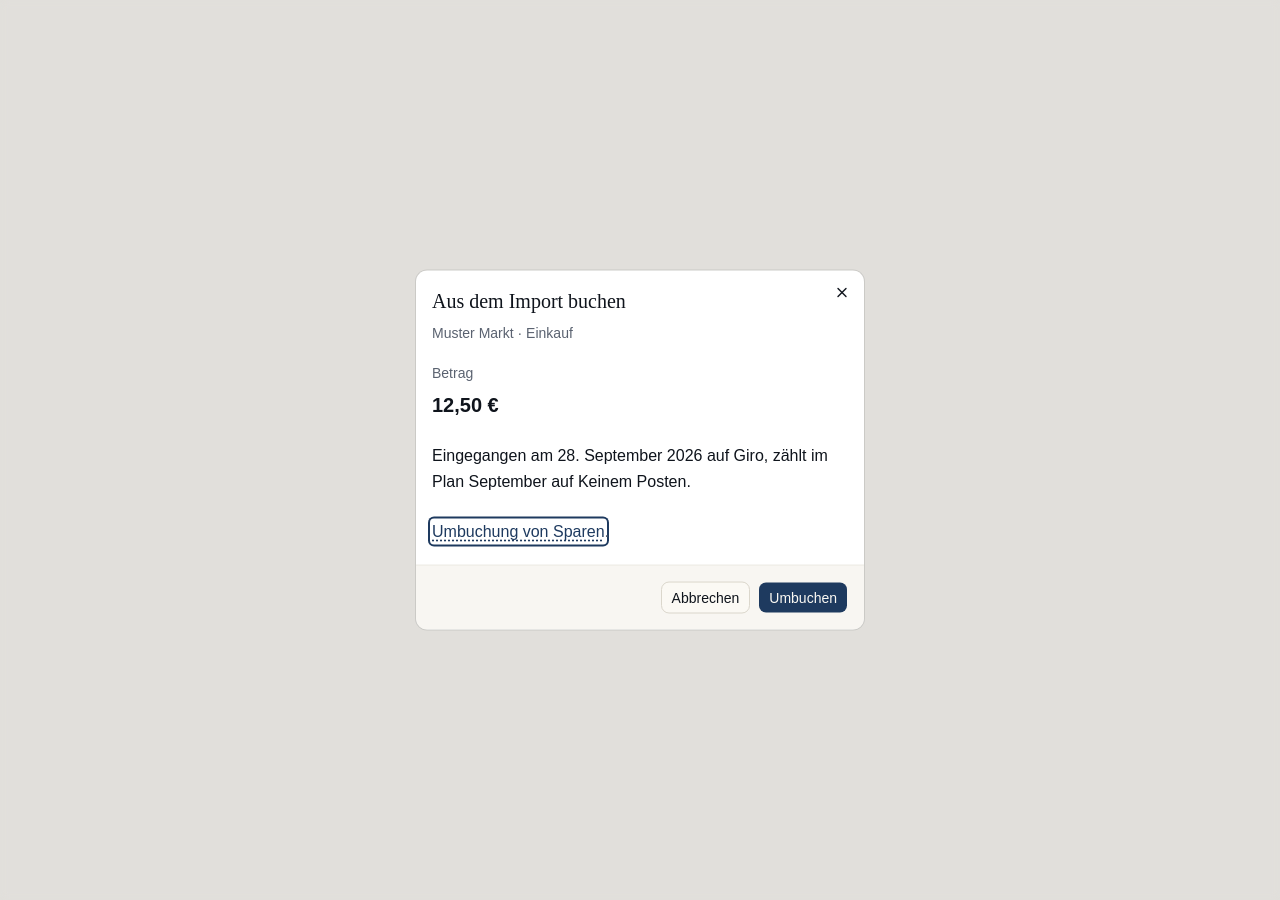
BookingDialog import › an incoming line says where the money came from
The width and height of the screenshot is (1280, 900).
Click the button "Umbuchung von Sparen". click: [518, 532]
box: [430, 518, 607, 544]
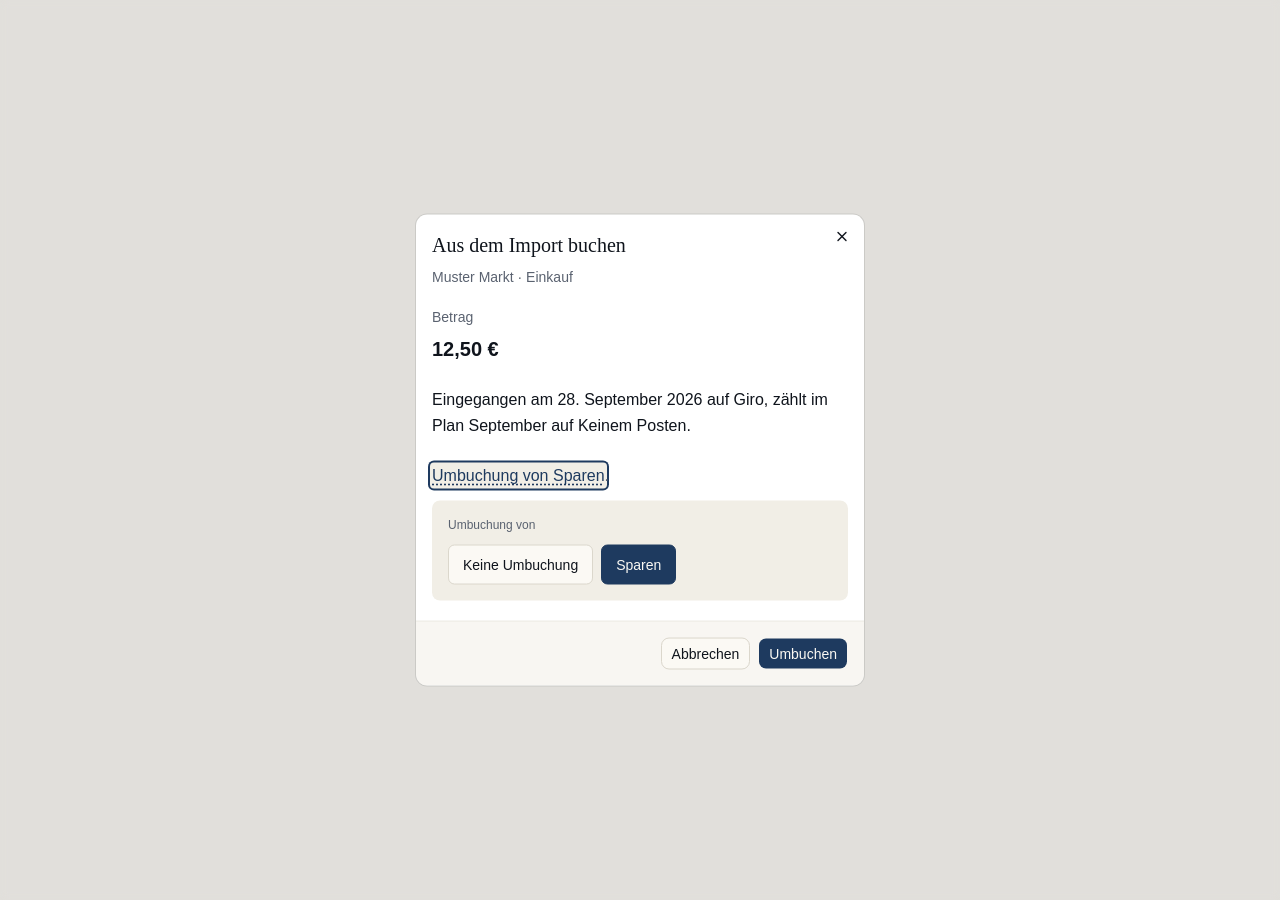
Check: the element "Umbuchung von" is shown, box [432, 500, 848, 600]
